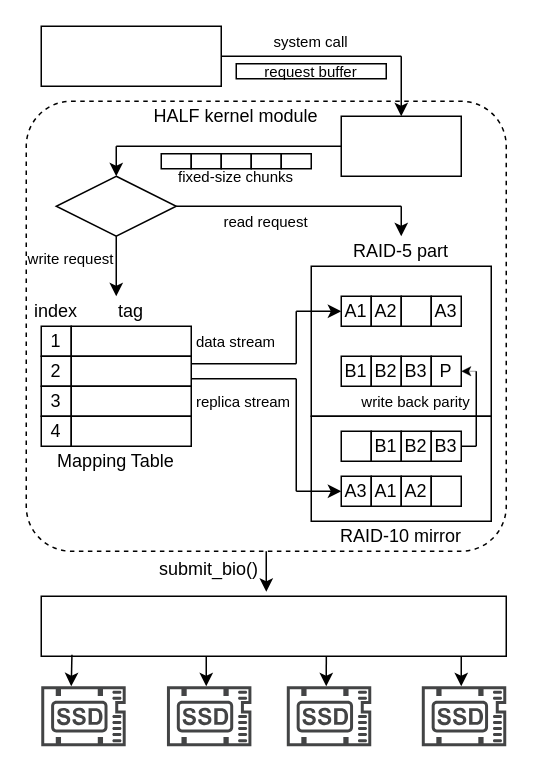
Image size: 533x773. Some labels were removed from this diagram. The shapes that lost their labels are listed below. From the top down, each one's centre as x and y in pixels, then its label:
(x=130, y=55): User Application
(x=400, y=145): Chunker
(x=115, y=205): Dispatcher
(x=273, y=625): Block device driver
